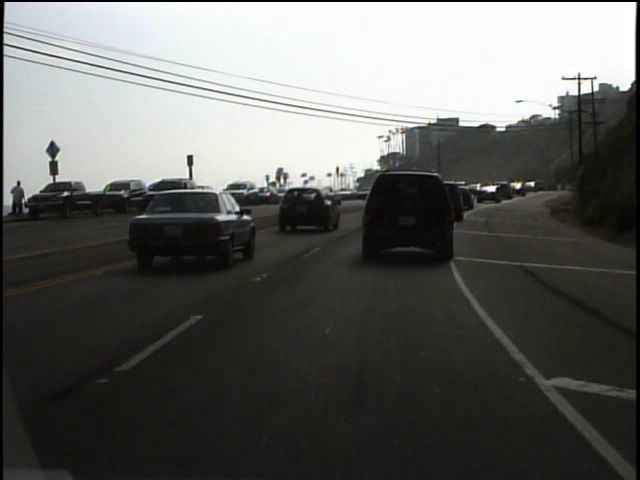person: (10, 177, 31, 221)
